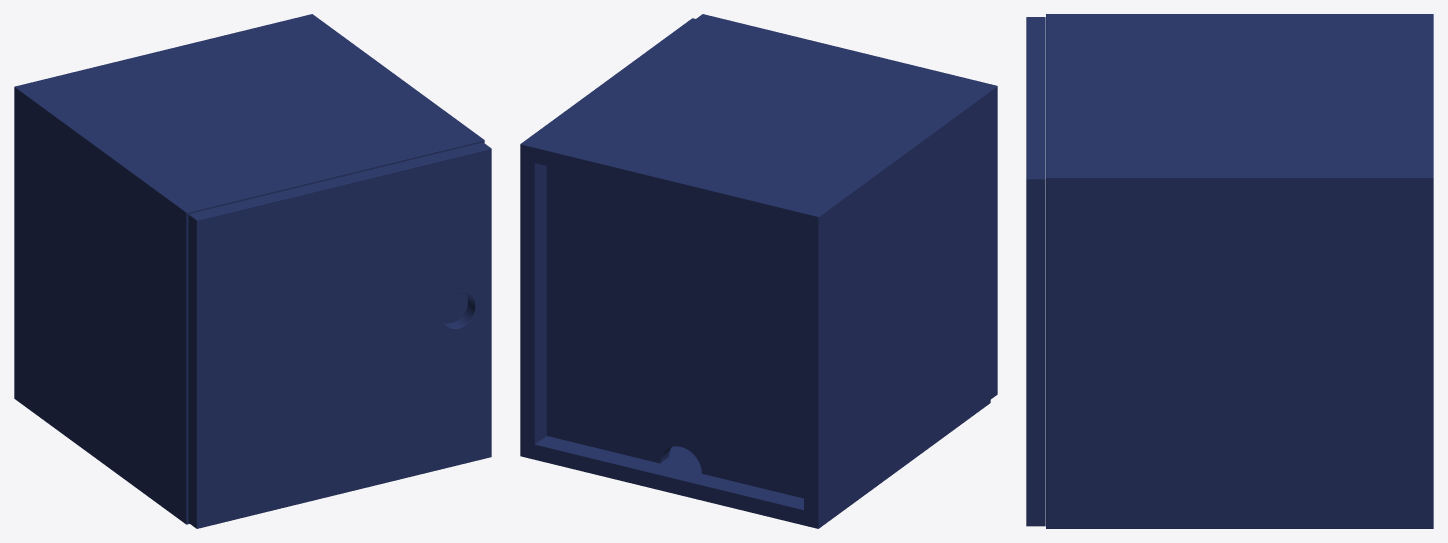
The model's file is MOD_1X1_D_B_DER_AP_AF.glb.
3 renders of one model, left to right at view 1: azimuth 30°, elevation 25°; view 2: azimuth 150°, elevation 25°; view 3: azimuth 270°, elevation 25°, orthographic. The views are drawn at different scales.
Bounding box in the file's own units: 360 × 360 × 378.
